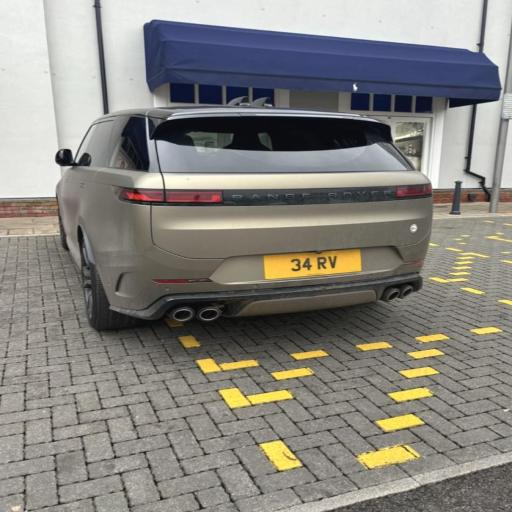numberplates: (264, 250, 361, 279)
